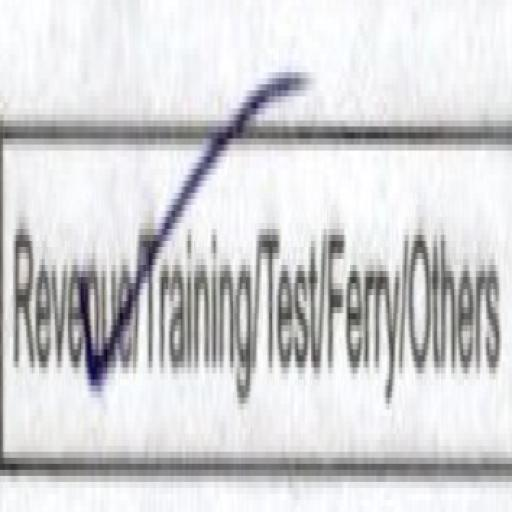check: (1, 34, 141, 479)
